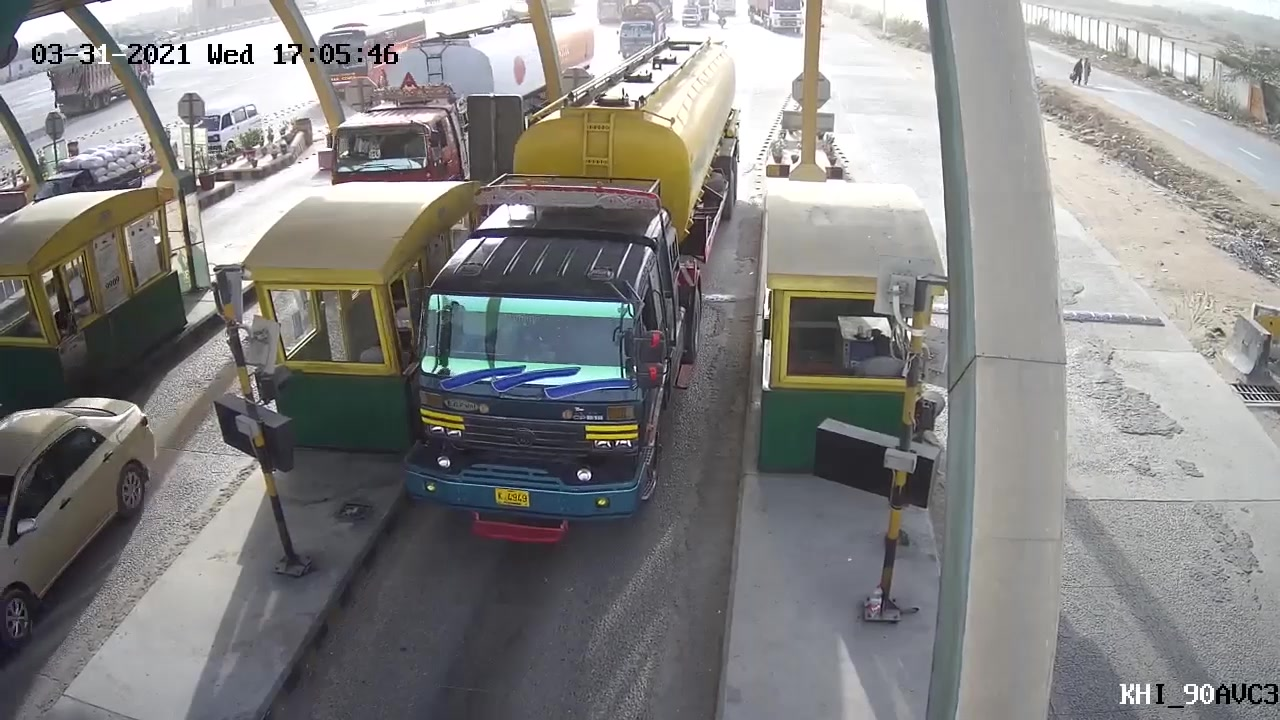F6: (403, 33, 746, 543)
